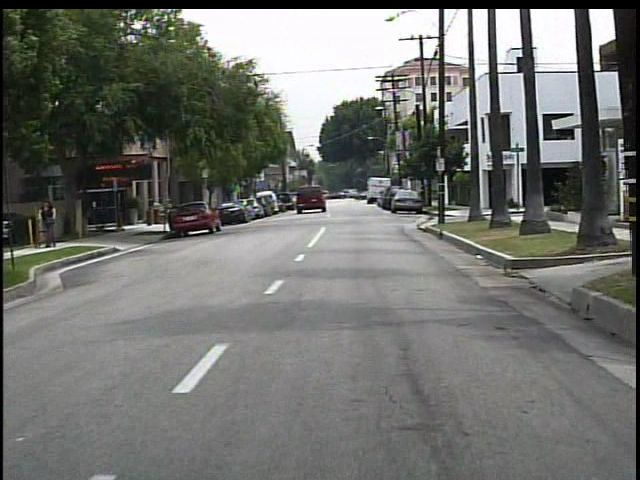person: (40, 196, 66, 249)
